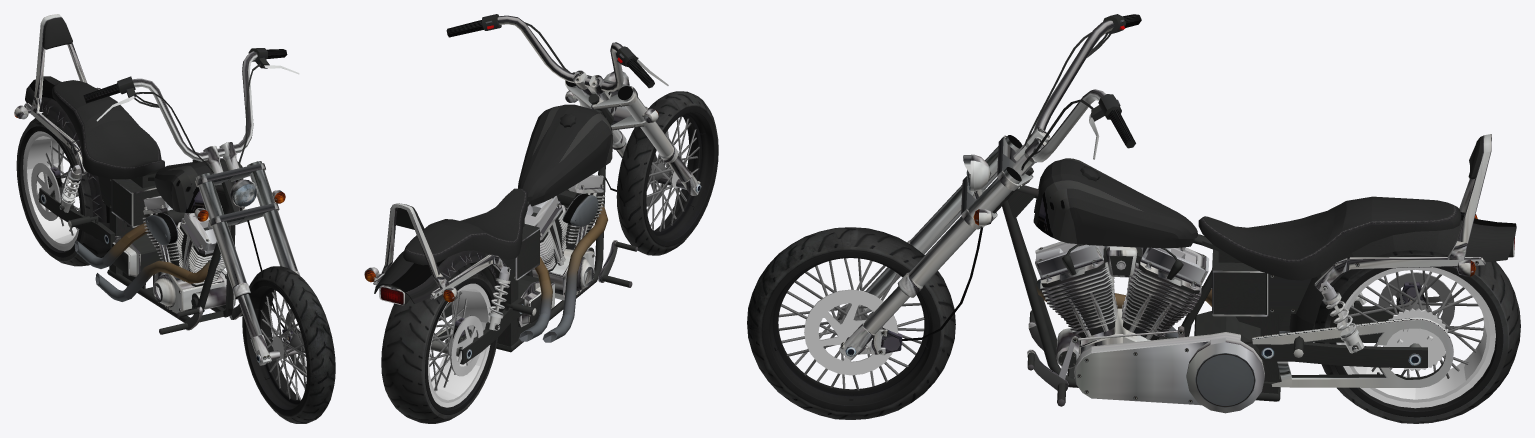
The model's file is SuperMotors_8_.fbx.
The picture shows the model from 3 angles, left to right: view 1: azimuth 30°, elevation 25°; view 2: azimuth 150°, elevation 25°; view 3: azimuth 270°, elevation 25°; orthographic projection. The views are drawn at different scales.
Parts seen in each view (by area): view 1: SuperMotors_8_005, SuperMotors_8_014, SuperMotors_8_015, SuperMotors_8_007, SuperMotors_8_006, SuperMotors_8_004, SuperMotors_8_009, SuperMotors_8_008, SuperMotors_8_003, SuperMotors_8_002, SuperMotors_8_011, SuperMotors_8_010; view 2: SuperMotors_8_005, SuperMotors_8_015, SuperMotors_8_014, SuperMotors_8_004, SuperMotors_8_006, SuperMotors_8_007, SuperMotors_8_009, SuperMotors_8_008, SuperMotors_8_003, SuperMotors_8_010, SuperMotors_8_011; view 3: SuperMotors_8_005, SuperMotors_8_014, SuperMotors_8_015, SuperMotors_8_004, SuperMotors_8_008, SuperMotors_8_007, SuperMotors_8_006, SuperMotors_8_003.
Part boxes in pixels (bbox=[...]): SuperMotors_8_005: bbox=[14, 14, 242, 334]; SuperMotors_8_014: bbox=[242, 266, 335, 423]; SuperMotors_8_015: bbox=[16, 112, 109, 266]; SuperMotors_8_007: bbox=[194, 161, 300, 299]; SuperMotors_8_006: bbox=[83, 48, 299, 174]; SuperMotors_8_004: bbox=[25, 76, 243, 222]; SuperMotors_8_009: bbox=[102, 213, 220, 299]; SuperMotors_8_008: bbox=[39, 167, 115, 248]; SuperMotors_8_003: bbox=[237, 220, 299, 365]; SuperMotors_8_002: bbox=[233, 183, 256, 206]; SuperMotors_8_011: bbox=[74, 240, 108, 268]; SuperMotors_8_010: bbox=[95, 273, 129, 301]; SuperMotors_8_005: bbox=[364, 93, 638, 352]; SuperMotors_8_015: bbox=[381, 263, 498, 423]; SuperMotors_8_014: bbox=[616, 91, 718, 255]; SuperMotors_8_004: bbox=[374, 104, 612, 311]; SuperMotors_8_006: bbox=[446, 14, 668, 100]; SuperMotors_8_007: bbox=[565, 71, 678, 163]; SuperMotors_8_009: bbox=[534, 193, 607, 316]; SuperMotors_8_008: bbox=[430, 298, 536, 364]; SuperMotors_8_003: bbox=[605, 142, 701, 195]; SuperMotors_8_010: bbox=[542, 314, 574, 342]; SuperMotors_8_011: bbox=[519, 313, 550, 341]; SuperMotors_8_005: bbox=[992, 134, 1514, 413]; SuperMotors_8_014: bbox=[747, 227, 955, 419]; SuperMotors_8_015: bbox=[1314, 250, 1520, 423]; SuperMotors_8_004: bbox=[1033, 158, 1516, 342]; SuperMotors_8_008: bbox=[1242, 282, 1453, 387]; SuperMotors_8_007: bbox=[897, 135, 1033, 297]; SuperMotors_8_006: bbox=[1013, 14, 1141, 175]; SuperMotors_8_003: bbox=[839, 227, 982, 360].
Size of what is drawn, in the model's own units: 65.77 by 88.49 by 169.
